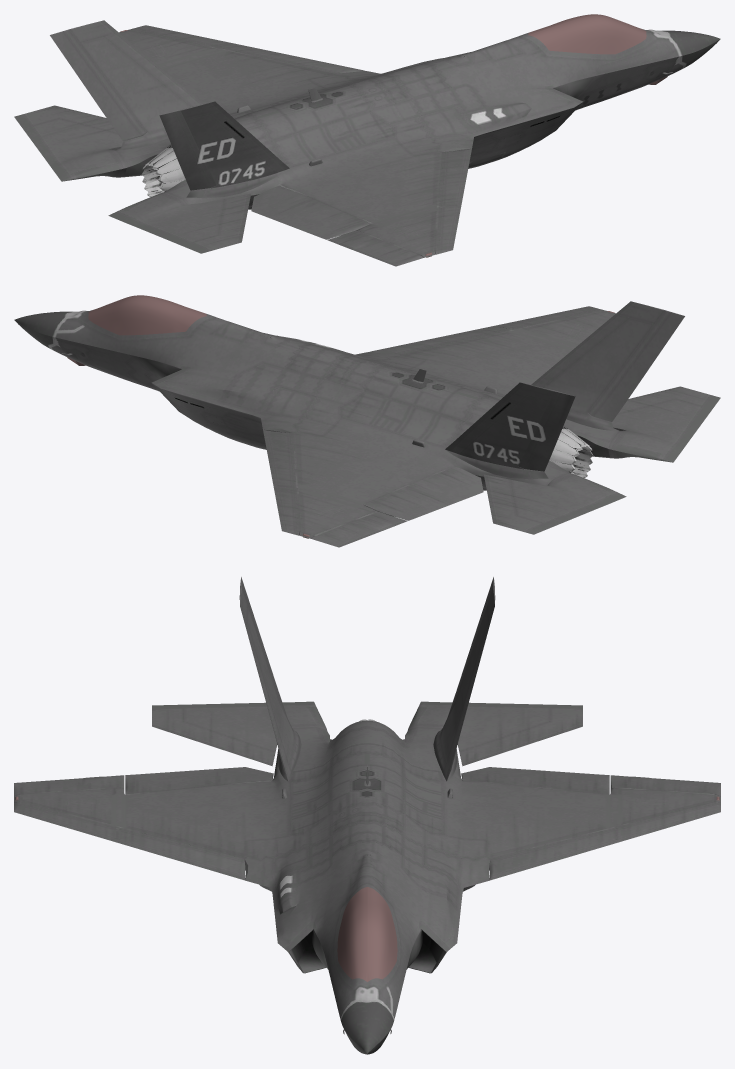
The model's file is f-35a_lightning_ii__usaf_warno_mod.glb.
3 views of the same model, one above another, from view 1: azimuth 30°, elevation 25°; view 2: azimuth 150°, elevation 25°; view 3: azimuth 270°, elevation 25° (orthographic). The views are drawn at different scales.
Parts seen in each view (by area): view 1: Chassis_59, Elevator_G_12, Elevator_D_11, Window_58, Rudder_1_39, Rudder_2_40, Aileron_D_8; view 2: Chassis_59, Elevator_D_11, Elevator_G_12, Window_58, Rudder_2_40, Rudder_1_39, Aileron_G_9; view 3: Chassis_59, Elevator_D_11, Elevator_G_12, Window_58, Aileron_D_8, Aileron_G_9.
Boxes of the visible parts, x1=… form: Chassis_59: x1=70, y1=20, x2=720, y2=257; Elevator_G_12: x1=14, y1=105, x2=126, y2=181; Elevator_D_11: x1=108, y1=192, x2=250, y2=253; Window_58: x1=528, y1=14, x2=646, y2=54; Rudder_1_39: x1=50, y1=29, x2=147, y2=140; Rudder_2_40: x1=159, y1=109, x2=216, y2=190; Aileron_D_8: x1=327, y1=230, x2=423, y2=266; Chassis_59: x1=14, y1=301, x2=664, y2=538; Elevator_D_11: x1=608, y1=386, x2=720, y2=462; Elevator_G_12: x1=484, y1=473, x2=626, y2=534; Window_58: x1=88, y1=295, x2=206, y2=335; Rudder_2_40: x1=587, y1=310, x2=684, y2=421; Rudder_1_39: x1=518, y1=390, x2=575, y2=471; Aileron_G_9: x1=311, y1=511, x2=407, y2=547; Chassis_59: x1=14, y1=587, x2=720, y2=1054; Elevator_D_11: x1=152, y1=701, x2=327, y2=766; Elevator_G_12: x1=407, y1=701, x2=582, y2=766; Window_58: x1=337, y1=887, x2=397, y2=981; Aileron_D_8: x1=14, y1=775, x2=124, y2=796; Aileron_G_9: x1=610, y1=775, x2=720, y2=796.
Size of the model in its own units: 15.73 by 3.96 by 13.16.
2 materials, 2 textured.
